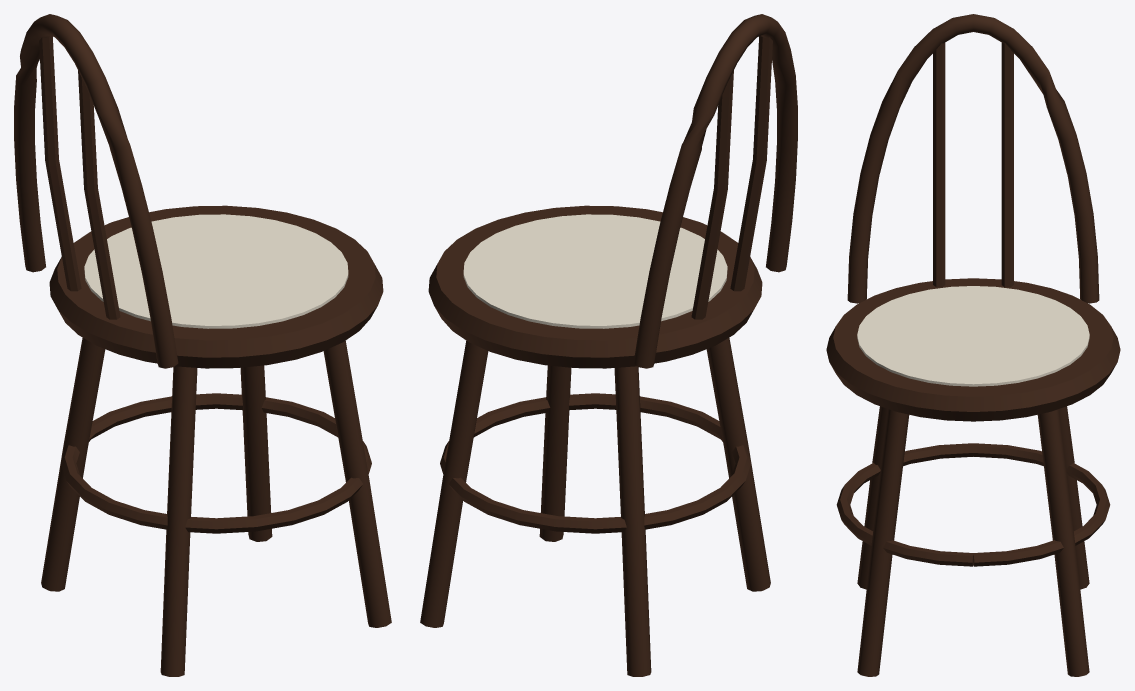
File: bistro_chair.glb
The picture shows the model from 3 angles, left to right: view 1: azimuth 30°, elevation 25°; view 2: azimuth 150°, elevation 25°; view 3: azimuth 270°, elevation 25°; orthographic projection. The views are drawn at different scales.
Parts seen in each view (by area): view 1: Cane_LOD0, Seat_LOD0, Hoop_LOD0, Ring_LOD0, Leg_LOD0.002, Leg_LOD0.003, Leg_LOD0.001, Leg_LOD0, Spindle_LOD0.001, Spindle_LOD0; view 2: Cane_LOD0, Seat_LOD0, Hoop_LOD0, Ring_LOD0, Leg_LOD0.001, Leg_LOD0, Leg_LOD0.002, Leg_LOD0.003, Spindle_LOD0, Spindle_LOD0.001; view 3: Cane_LOD0, Seat_LOD0, Hoop_LOD0, Ring_LOD0, Leg_LOD0, Leg_LOD0.003, Spindle_LOD0.001, Spindle_LOD0, Leg_LOD0.001, Leg_LOD0.002.
Boxes of the visible parts, <box> form: Cane_LOD0: <box>84,214,348,328</box>; Seat_LOD0: <box>49,205,383,368</box>; Hoop_LOD0: <box>14,14,178,368</box>; Ring_LOD0: <box>61,393,371,533</box>; Leg_LOD0.002: <box>160,366,197,676</box>; Leg_LOD0.003: <box>323,341,391,627</box>; Leg_LOD0.001: <box>41,338,105,591</box>; Leg_LOD0: <box>240,365,272,541</box>; Spindle_LOD0.001: <box>39,36,81,291</box>; Spindle_LOD0: <box>78,70,120,319</box>; Cane_LOD0: <box>463,214,727,328</box>; Seat_LOD0: <box>428,205,762,368</box>; Hoop_LOD0: <box>633,14,797,368</box>; Ring_LOD0: <box>440,393,750,533</box>; Leg_LOD0.001: <box>614,366,651,676</box>; Leg_LOD0: <box>420,341,488,627</box>; Leg_LOD0.002: <box>706,338,770,591</box>; Leg_LOD0.003: <box>539,365,571,541</box>; Spindle_LOD0: <box>730,36,772,291</box>; Spindle_LOD0.001: <box>691,70,733,319</box>; Cane_LOD0: <box>857,286,1089,386</box>; Seat_LOD0: <box>826,278,1120,421</box>; Hoop_LOD0: <box>847,14,1099,303</box>; Ring_LOD0: <box>836,443,1110,566</box>; Leg_LOD0: <box>1037,409,1089,676</box>; Leg_LOD0.003: <box>857,409,909,676</box>; Spindle_LOD0.001: <box>1001,42,1013,287</box>; Spindle_LOD0: <box>933,42,945,287</box>; Leg_LOD0.001: <box>1059,406,1089,589</box>; Leg_LOD0.002: <box>857,406,887,589</box>.
Bounding box in the file's own units: 0.459 × 0.8864 × 0.43.
